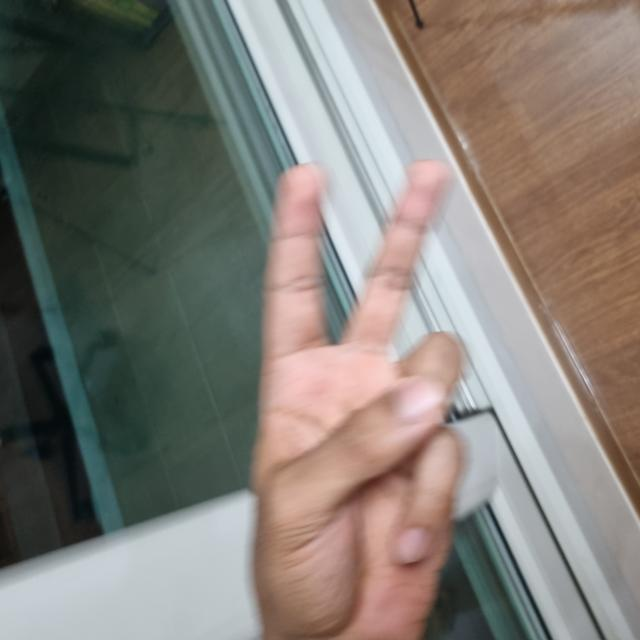Scissors: (0, 254, 477, 460)
